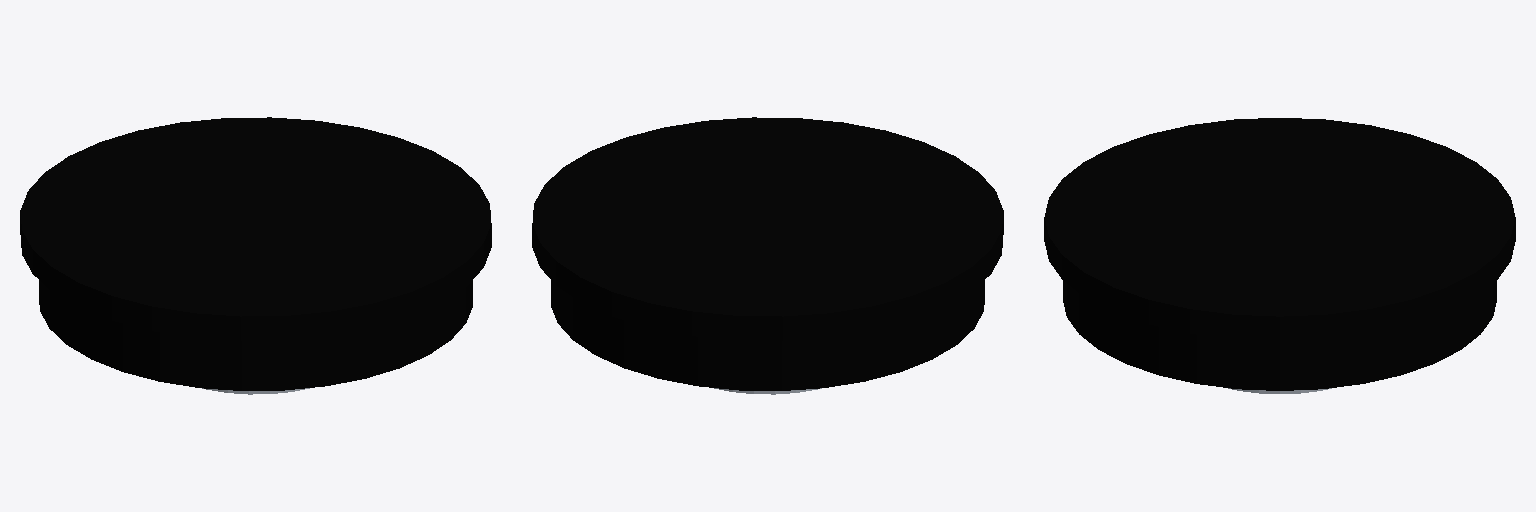
robot.urdf — tool_vacuum:
<?xml version="1.0"?>
<!-- Outil : ventouse a vide (outil d'origine extrait de l'ancien link6 : embase argent + disque et levre caoutchouc).
     Convention d'interface (commune a tous les outils) :
       - tool_mount : lien RACINE, repere de montage, superpose a la bride (flange) du robot.
       - tcp        : Tool Center Point, centre de la face d'aspiration de la ventouse. z = normale sortante. -->
<robot name="tool_vacuum">

  <link name="tool_mount">
    <visual>
      <geometry><cylinder length="0.006" radius="0.012"/></geometry>
      <origin xyz="0 0 0.003" rpy="0 0 0"/>
      <material name="silver"><color rgba="0.72 0.75 0.79 1"/></material>
    </visual>
    <visual>
      <geometry><cylinder length="0.007" radius="0.024"/></geometry>
      <origin xyz="0 0 0.0095" rpy="0 0 0"/>
      <material name="rubber"><color rgba="0.04 0.04 0.04 1"/></material>
    </visual>
    <visual>
      <geometry><cylinder length="0.003" radius="0.026"/></geometry>
      <origin xyz="0 0 0.0145" rpy="0 0 0"/>
      <material name="rubber"><color rgba="0.04 0.04 0.04 1"/></material>
    </visual>
    <collision>
      <geometry><cylinder length="0.016" radius="0.026"/></geometry>
      <origin xyz="0 0 0.008" rpy="0 0 0"/>
    </collision>
    <inertial>
      <mass value="0.1"/>
      <origin xyz="0 0 0.008" rpy="0 0 0"/>
      <inertia ixx="0.000018" ixy="0.0" ixz="0.0" iyy="0.000018" iyz="0.0" izz="0.000034"/>
    </inertial>
  </link>

  <link name="tcp"/>
  <joint name="tool_mount_to_tcp" type="fixed">
    <parent link="tool_mount"/>
    <child link="tcp"/>
    <origin xyz="0 0 0.016" rpy="0 0 0"/>
  </joint>

</robot>

--- What the picture shows (computed from the rendered views, not written in the file) ---
3 views of the same robot in one strip: view 1: azimuth 30°, elevation 25°; view 2: azimuth 150°, elevation 25°; view 3: azimuth 270°, elevation 25° (orthographic).
Model tool_vacuum with 2 links and 1 joints (1 fixed), rooted at tool_mount, posed every joint at zero.
Links seen in each view (by area): view 1: tool_mount; view 2: tool_mount; view 3: tool_mount.
Link boxes in pixels (x1,y1,x2,y2): tool_mount: (20, 117, 491, 394); tool_mount: (532, 117, 1003, 394); tool_mount: (1044, 118, 1515, 393).
Bounding box of the posed robot: 0.052 × 0.052 × 0.016 m (x, y, z).
Geometry: primitives only (box / cylinder / sphere), no mesh files.
